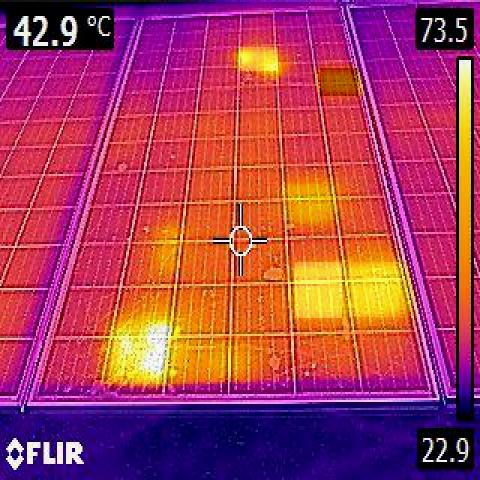fault: (349, 262, 400, 317), (295, 262, 342, 318), (112, 333, 162, 384), (288, 179, 332, 232), (320, 68, 358, 96), (239, 47, 278, 71)
